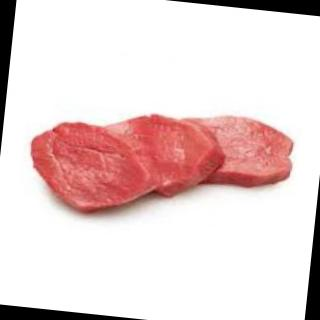Daging Sapi: (27, 118, 158, 217), (109, 110, 226, 202), (181, 114, 297, 191)
